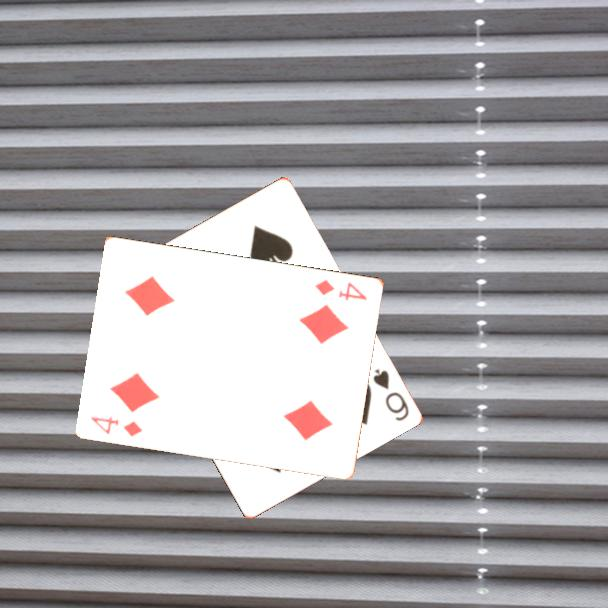d04: (312, 276, 370, 303), (88, 412, 146, 439)
s06: (369, 365, 411, 424)
